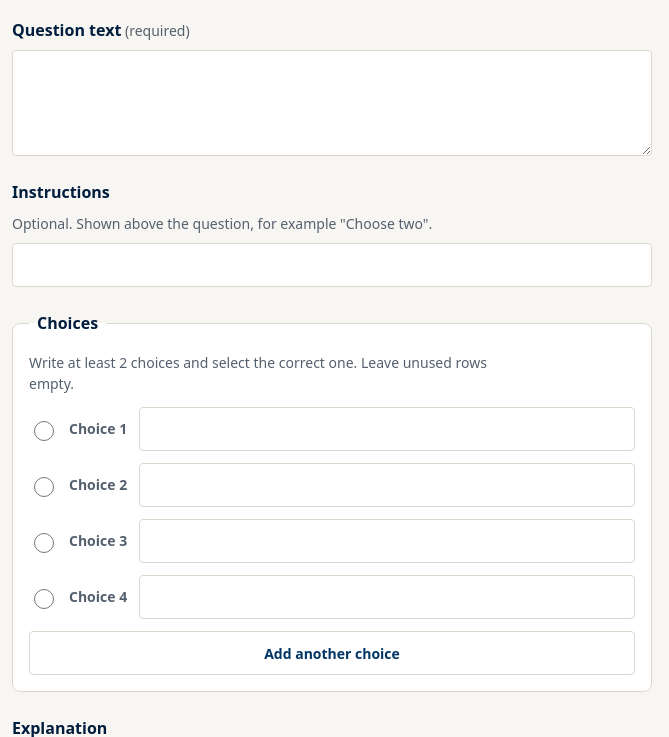
Test case: QuestionForm › adds a choice row up to the maximum
Check: the field labelled "Choice 5" is not shown
Step 1. Click the button "Add another choice" → x=332, y=653, box [29, 631, 635, 675]
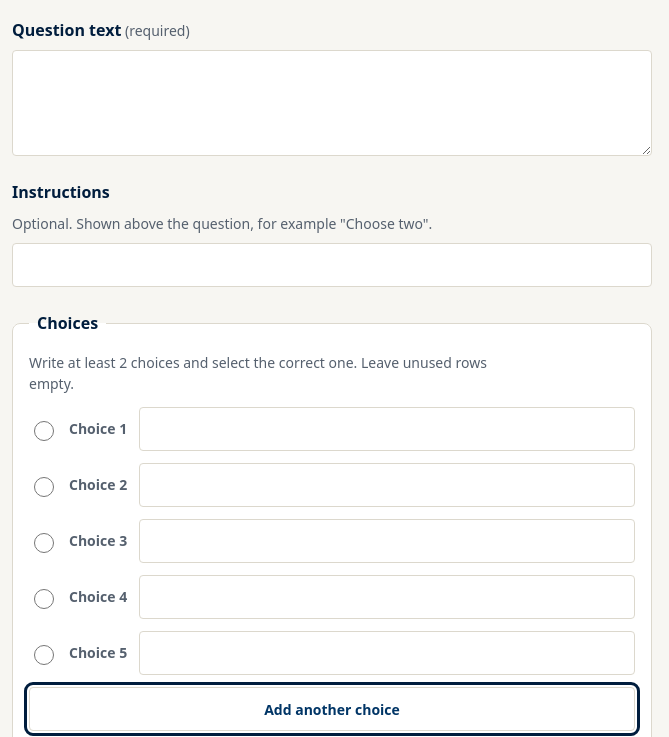
Check: the field labelled "Choice 5" is shown, box [139, 631, 635, 675]
// MAX_CHOICES rows, then the control stops offering more.
Step 2. Click the button "Add another choice" → x=332, y=709, box [29, 687, 635, 731]
(page scrolled)
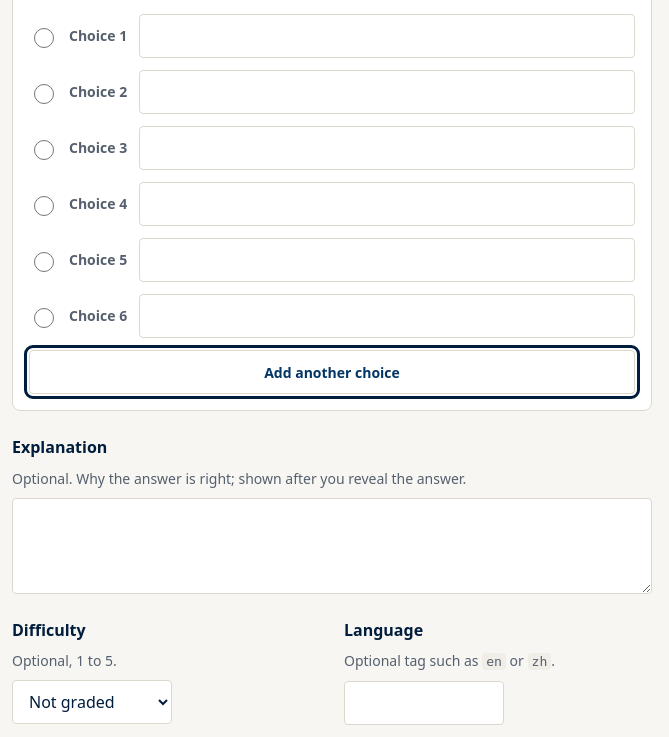
Step 3. Click the button "Add another choice" → x=332, y=372, box [29, 350, 635, 394]
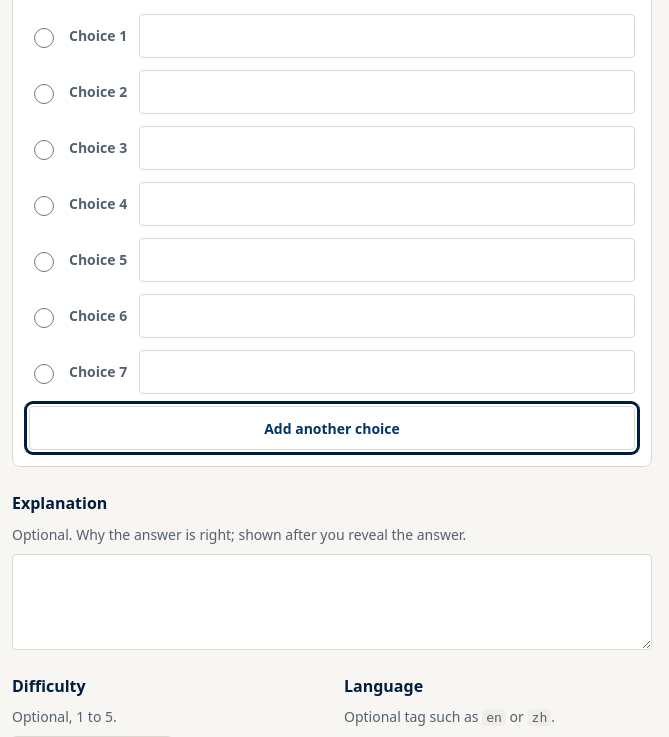
Step 4. Click the button "Add another choice" → x=332, y=428, box [29, 406, 635, 450]
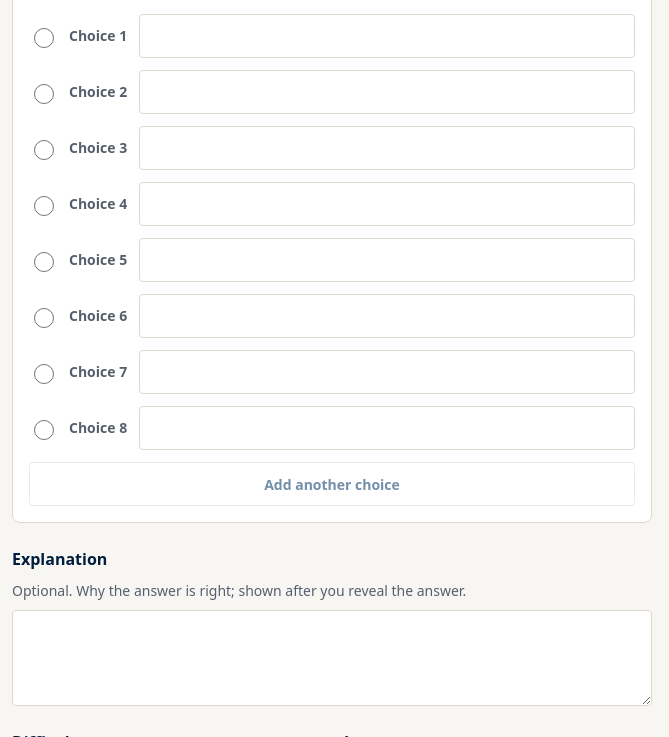
Check: the field labelled "Choice 8" is shown, box [139, 406, 635, 450]
Check: the button "Add another choice" is disabled, box [29, 462, 635, 506]
